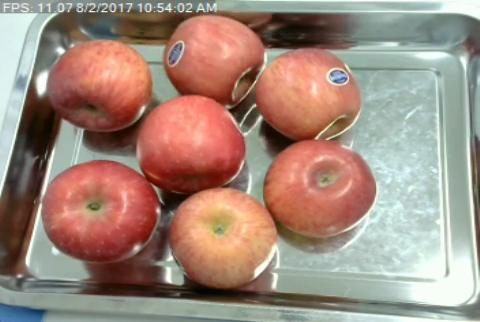apple: (41, 161, 159, 263), (264, 140, 377, 238), (170, 188, 275, 287), (136, 96, 244, 189), (257, 47, 362, 140), (46, 40, 152, 130), (164, 14, 266, 107)
